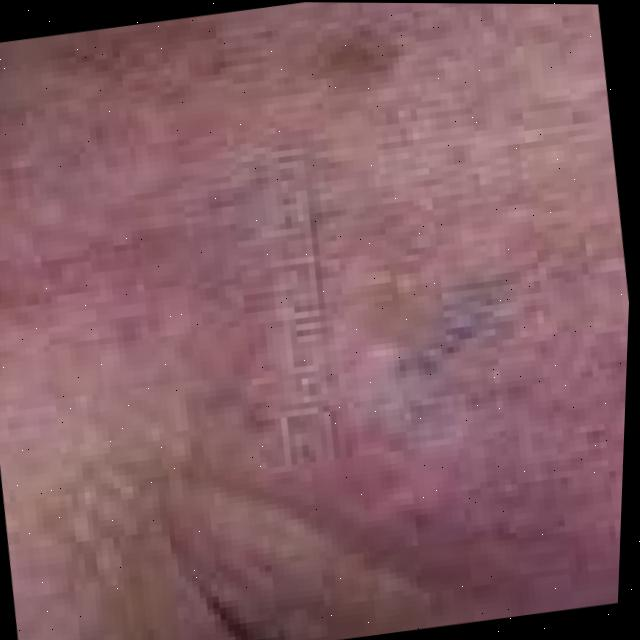Melasma: (194, 255, 413, 528)
